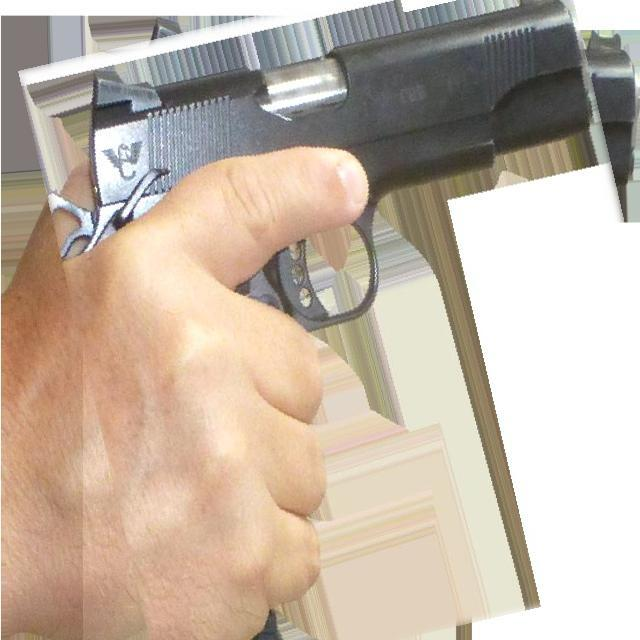handgun: (50, 0, 640, 332)
